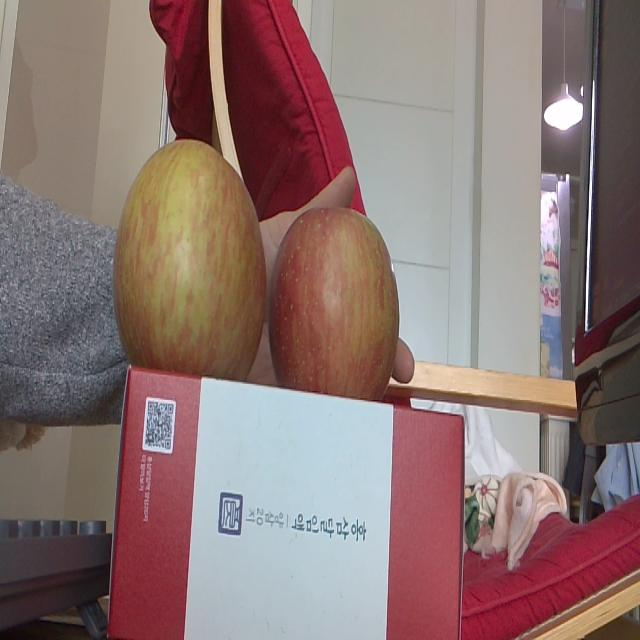apple: (115, 140, 263, 378), (270, 207, 401, 402)
